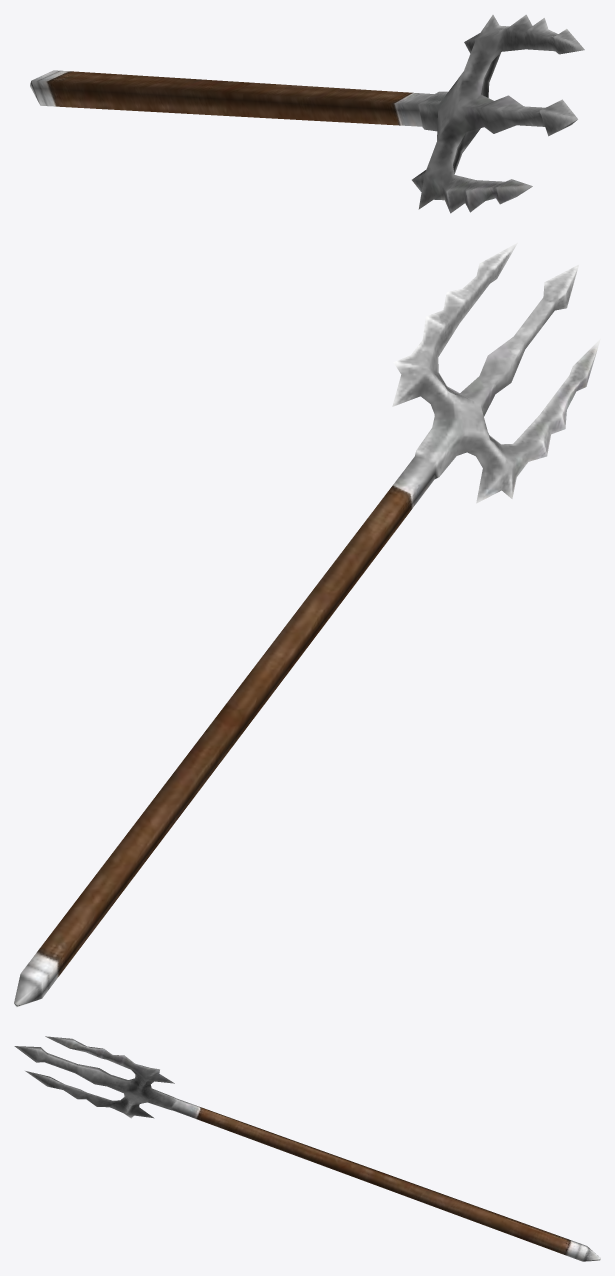
File: rider-weapon-slice-ironweapons.glb
The picture shows the model from 3 angles, top to bottom: view 1: azimuth 30°, elevation 25°; view 2: azimuth 150°, elevation 25°; view 3: azimuth 270°, elevation 25°; orthographic projection. The views are drawn at different scales.
Bounding box in the file's own units: 0.2503 × 0.9974 × 2.37.
Materials: 1 (1 with a texture image).
